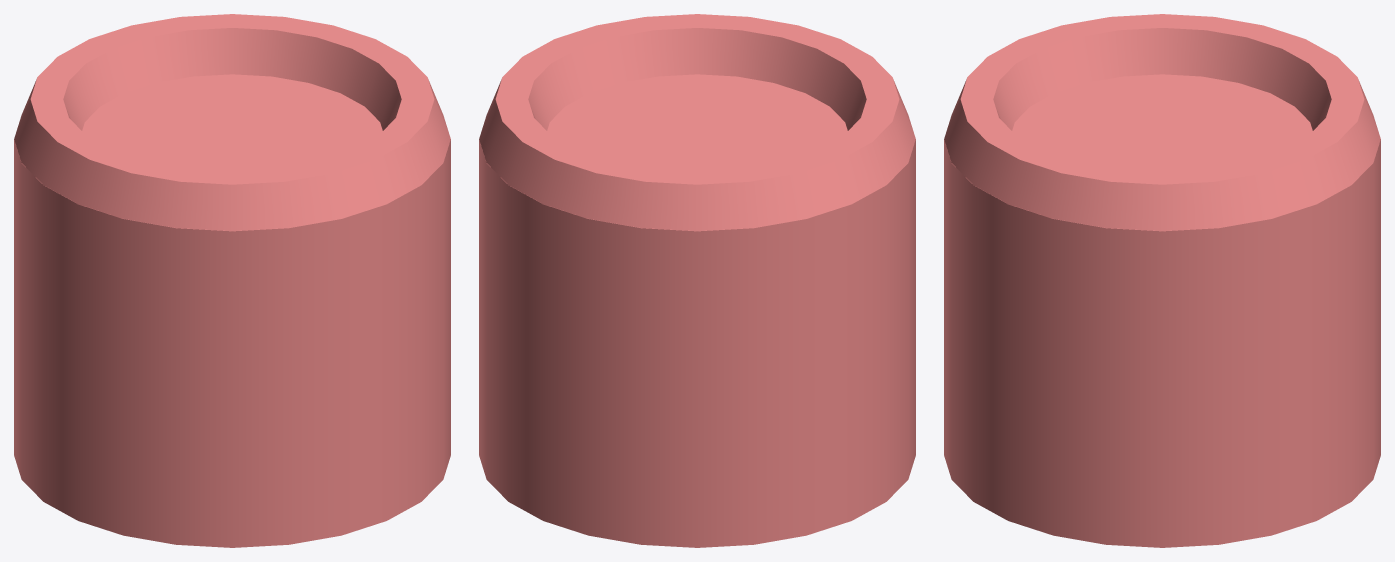
Rendered from Light_QianDeng2_1X1_off.FBX.
The picture shows the model from 3 angles, left to right: view 1: azimuth 30°, elevation 25°; view 2: azimuth 150°, elevation 25°; view 3: azimuth 270°, elevation 25°; orthographic projection.
Visible parts, largest first — view 1: Box001; view 2: Box001; view 3: Box001.
Part boxes in pixels (x1,y1,x2,y2): Box001: [14, 14, 450, 547]; Box001: [479, 14, 915, 547]; Box001: [944, 14, 1380, 547].
Size of the model in its own units: 1 by 0.9003 by 1.
